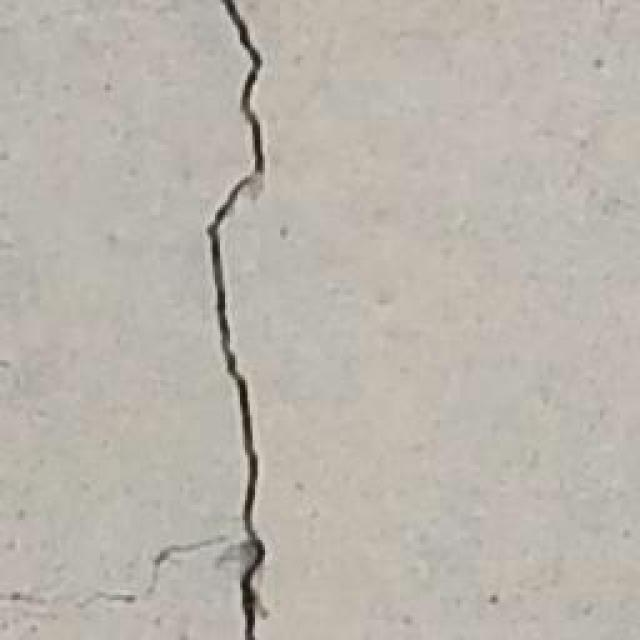concrete-crack: (0, 0, 275, 640)
